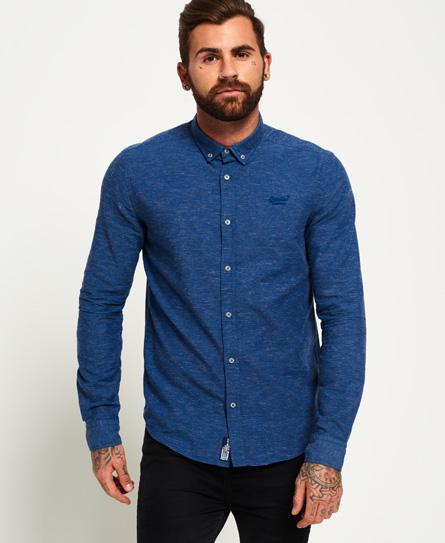teeshirt: (73, 110, 369, 479)
